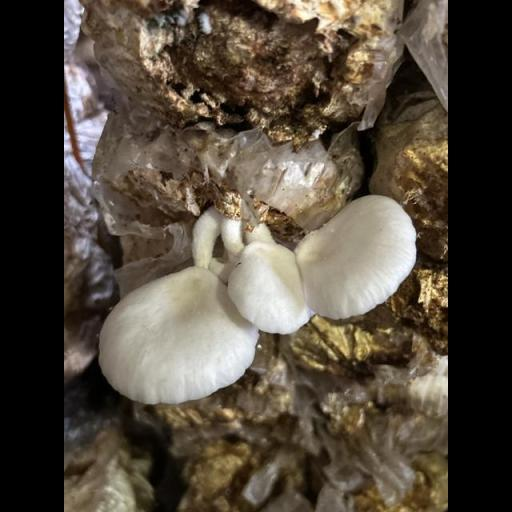White Oyster Mushroom: (100, 195, 412, 401)
